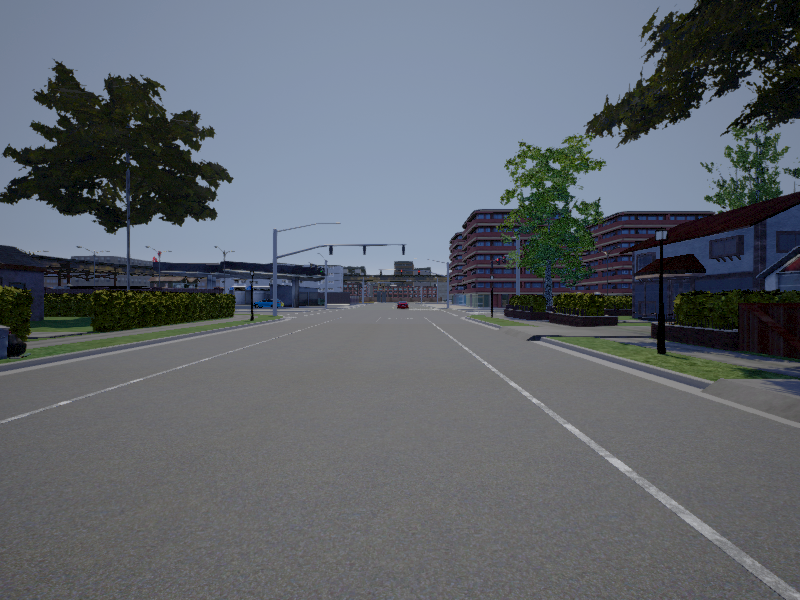Attacker: (398, 301, 408, 310)
